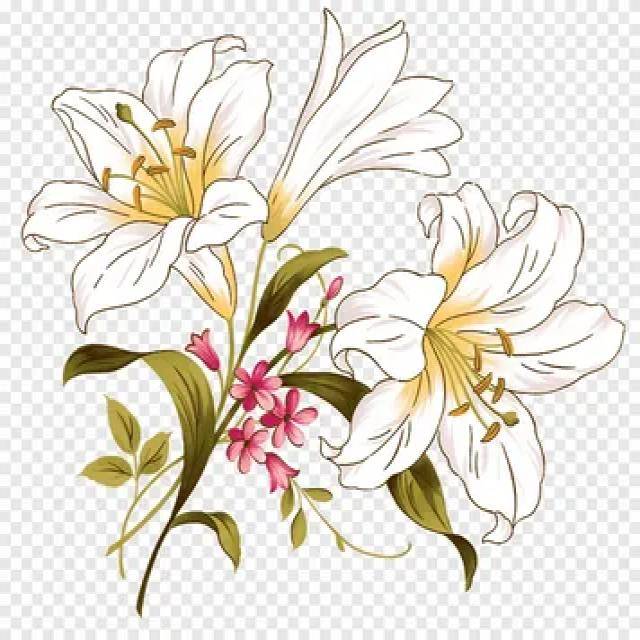lily: (325, 169, 622, 537), (14, 9, 272, 334)
